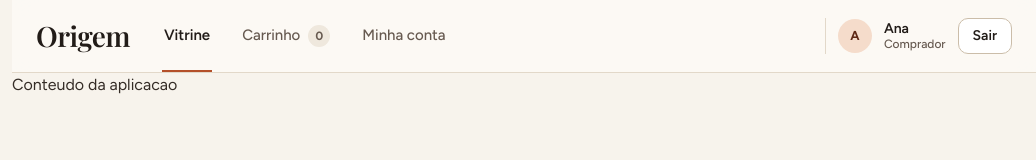
Test case: GateAcesso › cancelar a confirmacao mantem a sessao ativa
This screenshot has width=1036, height=160.
Step 1. Click the button "Sair" → coordinates (985, 36), box [958,18,1012,54]
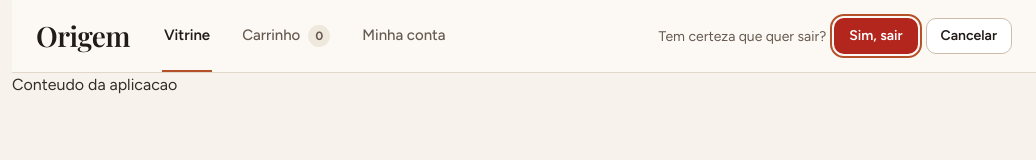
Step 2. Click the button "Cancelar" → coordinates (969, 36), box [926,18,1012,54]
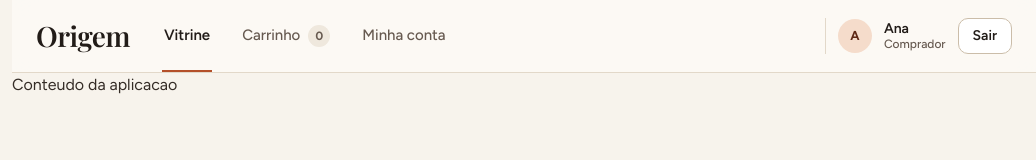
Expected: the text "Conteudo da aplicacao" is shown, [12,75,177,94]
Expected: the text "Tem certeza que quer sair" is gone
Expected: the button "Sair" is shown, [958,18,1012,54]
